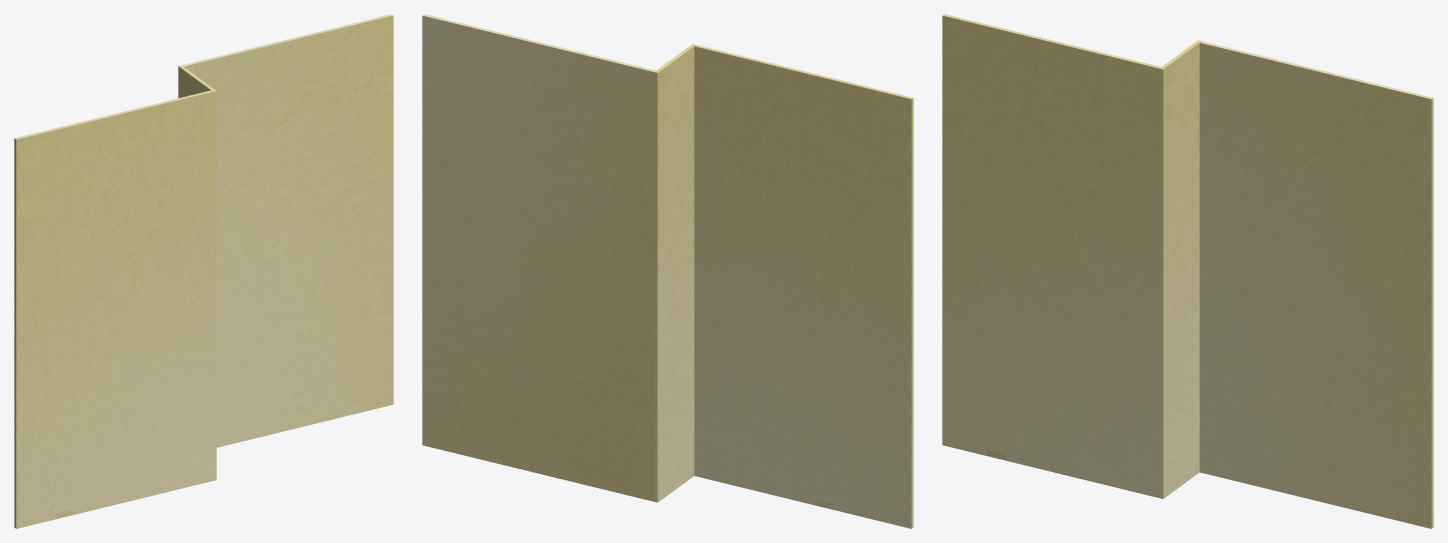
The model's file is wall1.FBX.
The picture shows the model from 3 angles, left to right: view 1: azimuth 30°, elevation 25°; view 2: azimuth 150°, elevation 25°; view 3: azimuth 330°, elevation 25°; orthographic projection. The views are drawn at different scales.
Parts seen in each view (by area): view 1: Box001, Object001, Object002; view 2: Object001, Box001, Object002; view 3: Object001, Box001, Object002.
Part boxes in pixels (x1,y1,x2,y2): Box001: (14, 65, 216, 528); Object001: (182, 14, 393, 447); Object002: (180, 66, 214, 97); Object001: (422, 14, 655, 501); Box001: (654, 44, 913, 528); Object002: (656, 45, 694, 500); Object001: (1199, 41, 1433, 528); Box001: (942, 14, 1201, 498); Object002: (1162, 42, 1199, 497).
Bounding box in the file's own units: 222 × 201 × 32.72.
1 material, 1 textured.
